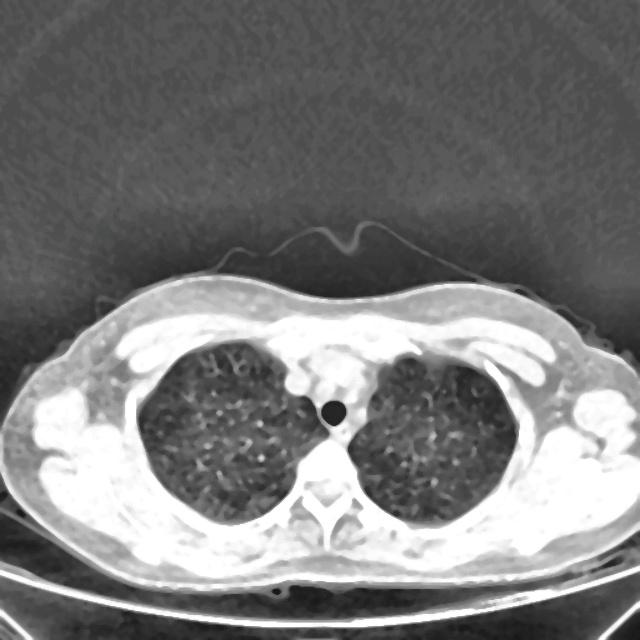covid: (1, 267, 639, 599)
